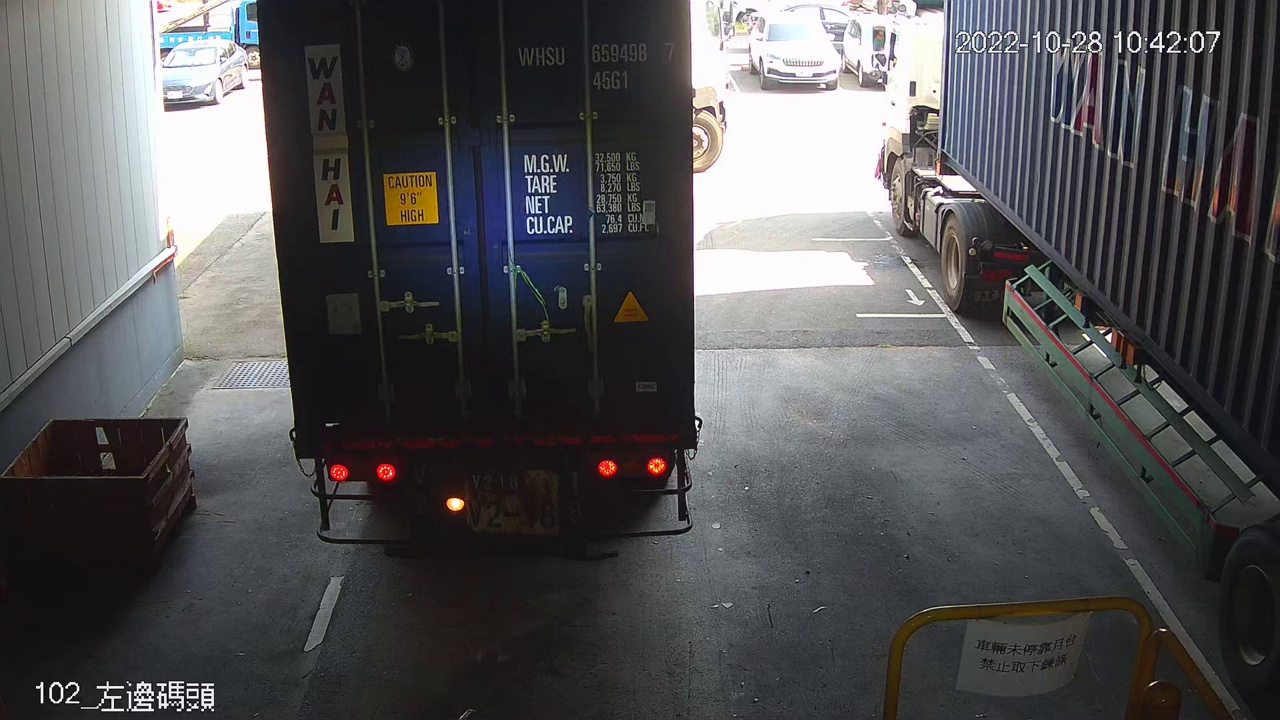container: (512, 36, 681, 94)
